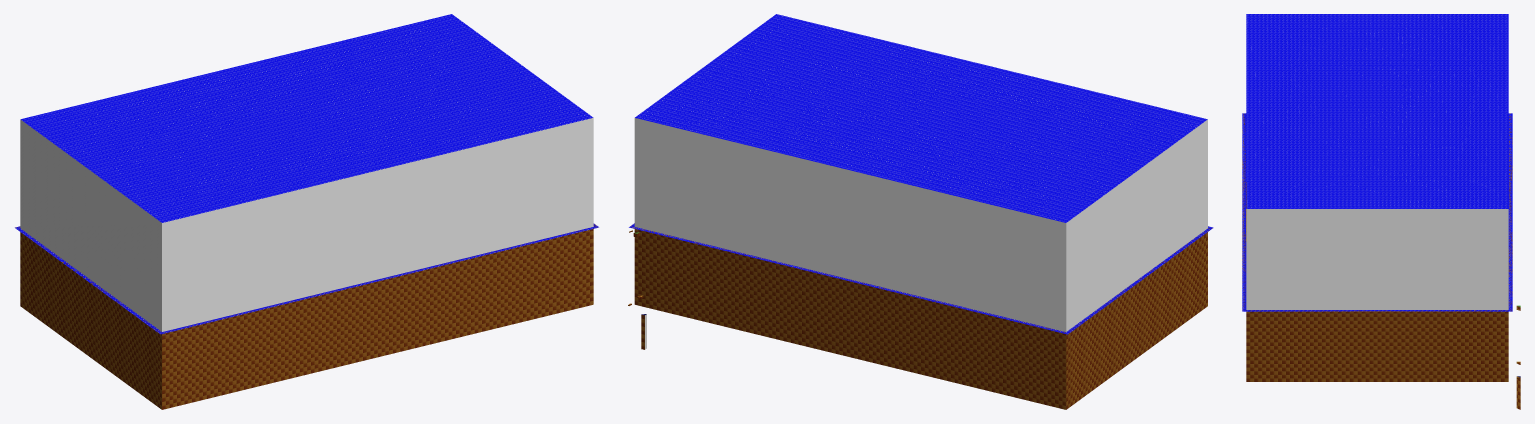
Rendered from MAPMB_MeadowMatch.obj.
3 renders of one model, left to right at view 1: azimuth 30°, elevation 25°; view 2: azimuth 150°, elevation 25°; view 3: azimuth 270°, elevation 25°, orthographic. The views are drawn at different scales.
Visible parts, largest first — view 1: MAPMB; view 2: MAPMB; view 3: MAPMB.
Part boxes in pixels (<box>): MAPMB: <box>15,14,598,409</box>; MAPMB: <box>628,14,1213,409</box>; MAPMB: <box>1242,14,1520,409</box>.
Bounding box in the file's own units: 7552 × 3672 × 4480.
